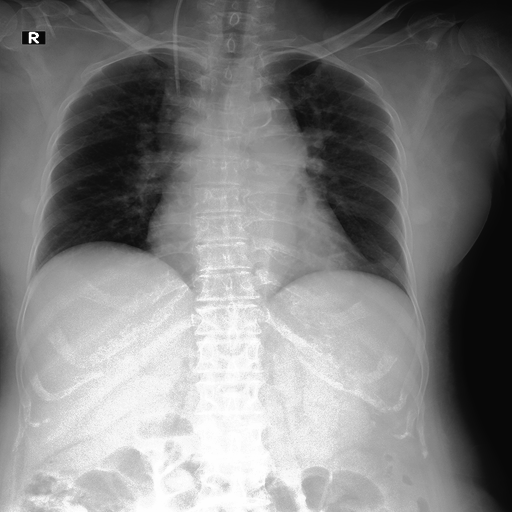Consolidation: (232, 95, 301, 143)
Nodule/Mass: (146, 219, 368, 270)
Other lesion: (162, 87, 215, 200)
Pneumothorax: (84, 90, 93, 97)
